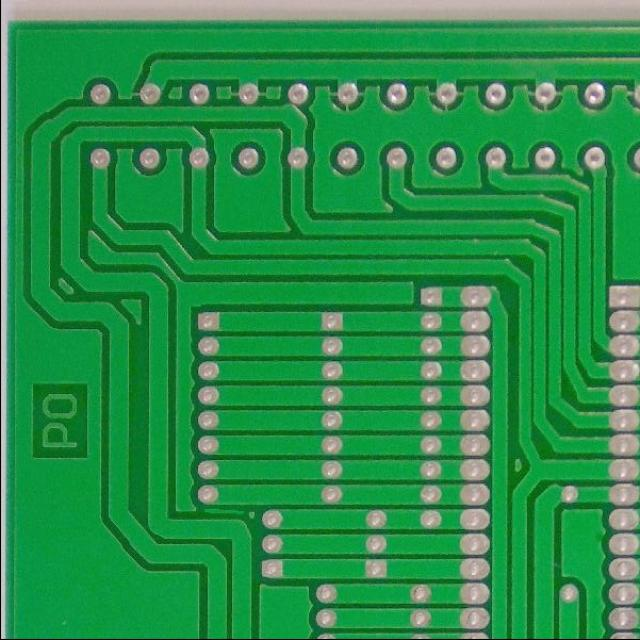Spurious_Cooper: (200, 502, 247, 516)
